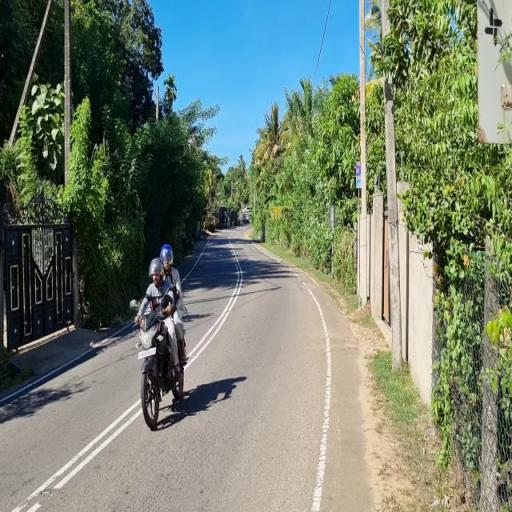double_white_line: (10, 399, 141, 511)
